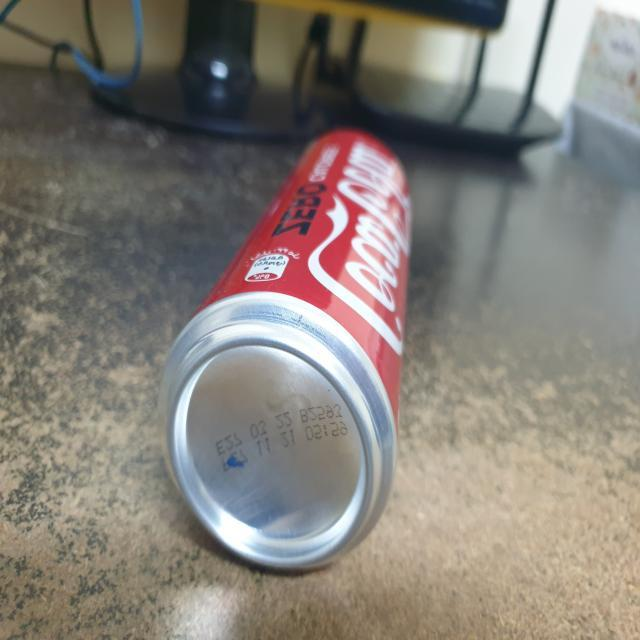can: (148, 123, 414, 573)
